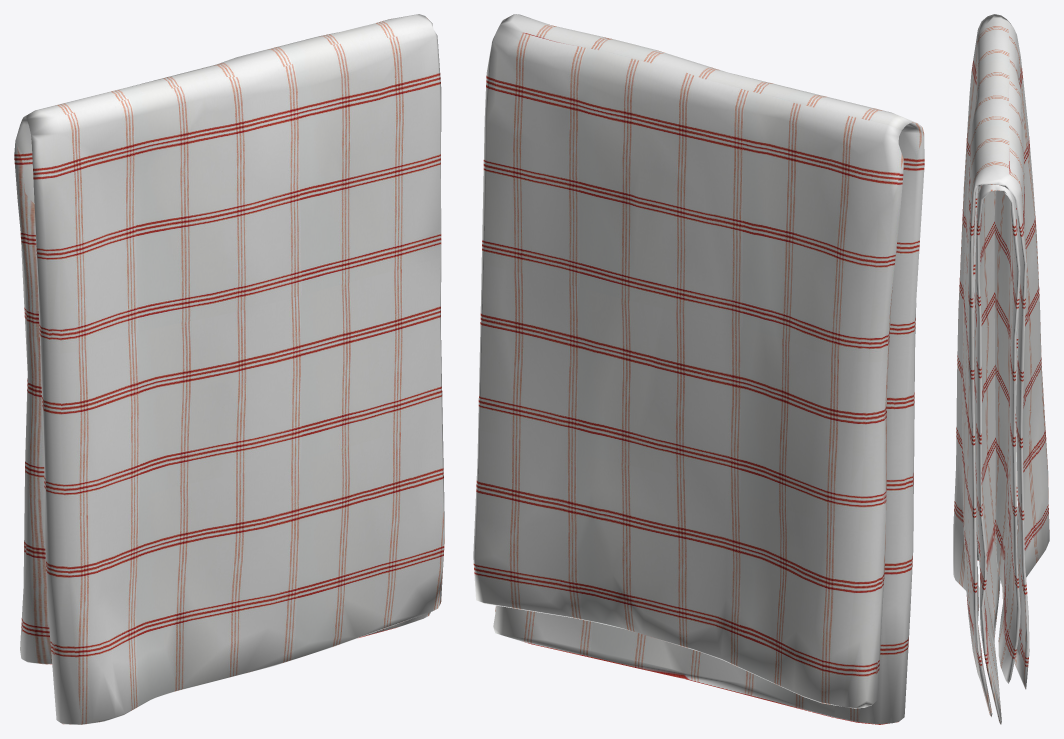
File: Cloth.FBX
3 views of the same model, side by side, from view 1: azimuth 30°, elevation 25°; view 2: azimuth 150°, elevation 25°; view 3: azimuth 270°, elevation 25° (orthographic). The views are drawn at different scales.
Visible parts, largest first — view 1: Cloth; view 2: Cloth; view 3: Cloth.
Boxes of the visible parts, box(x1,y1,x2,y2) form: Cloth: box(14, 14, 444, 724); Cloth: box(473, 14, 924, 724); Cloth: box(953, 14, 1049, 724).
Size of the model in its own units: 24.95 by 34.94 by 5.63.
